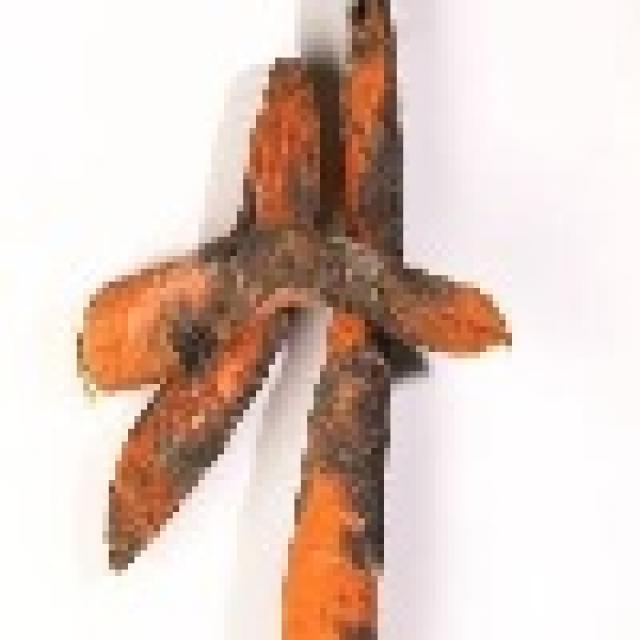Stale_Carrot: (106, 70, 319, 576), (91, 213, 526, 397), (277, 0, 400, 640)
